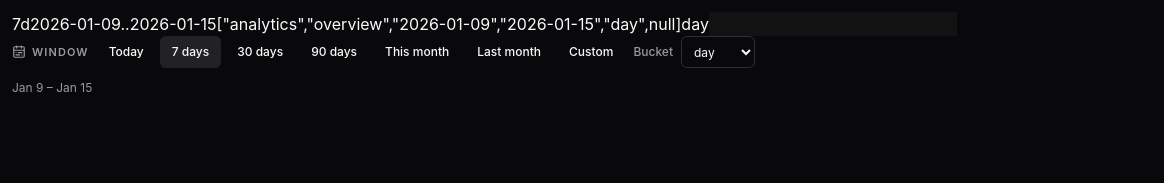
Test: the window drives the URL and the query key › writes a custom window to the URL and reads it back on the next render
Click the button "Custom" at (591, 52), box [557,36,625,68]
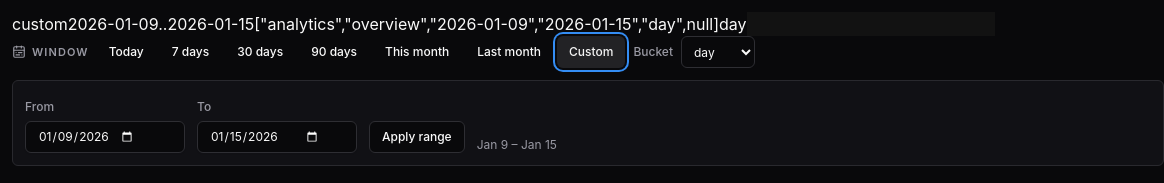
Type "2025-09-01" into the date field labelled "From" at (105, 137), box [25,121,185,153]
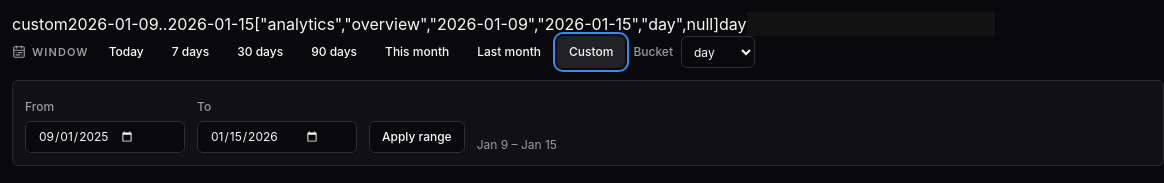
Type "2025-09-30" into the date field labelled "To" at (277, 137), box [197,121,357,153]
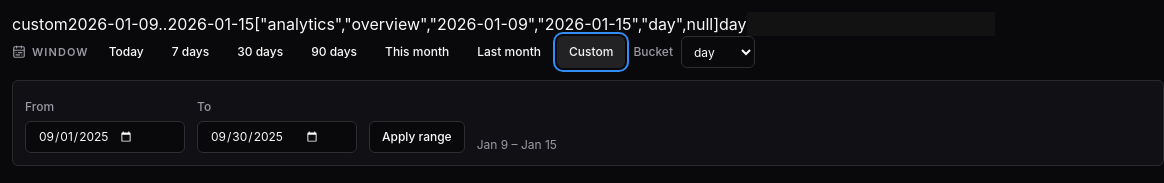
Click the button "Apply range" at (417, 137), box [369,121,465,153]
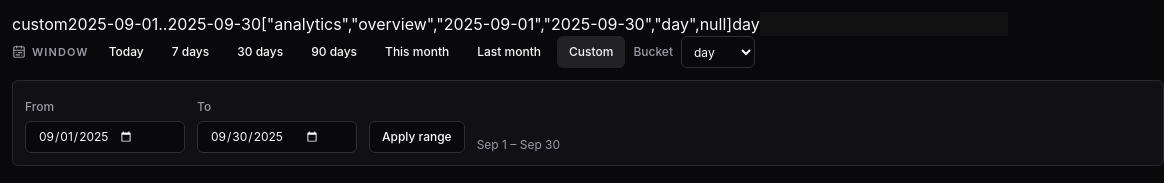
Now the text with test id "range" reads "2025-09-01..2025-09-30", box [68,14,261,34]
